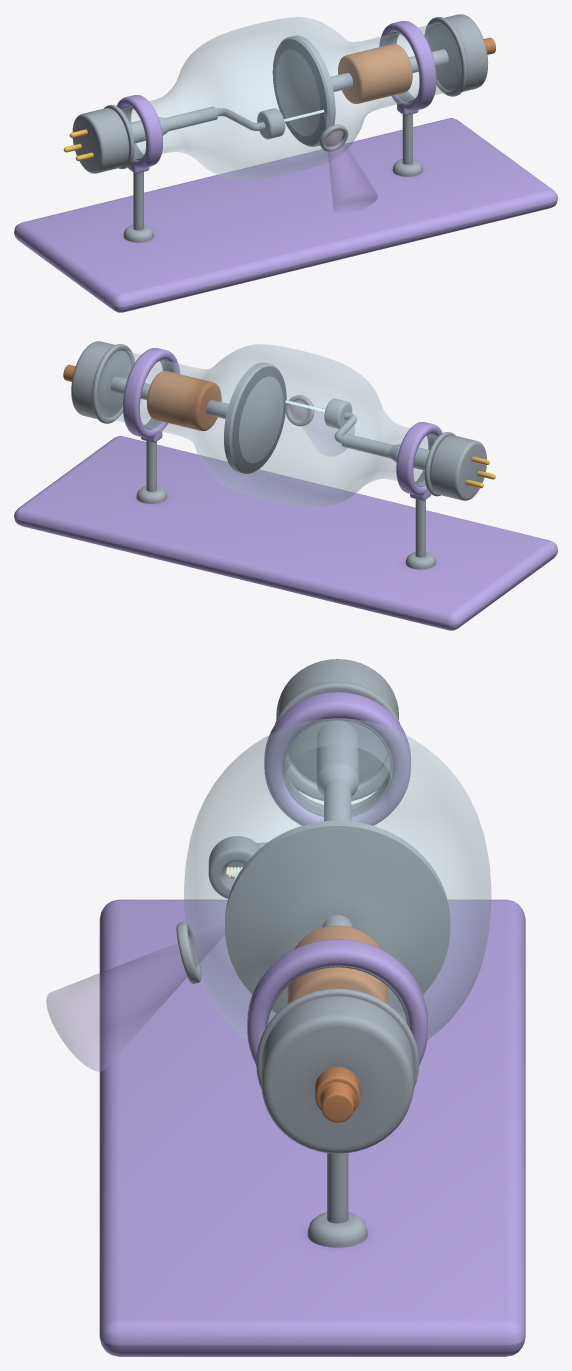
3 views of the same model, one above another, from view 1: azimuth 30°, elevation 25°; view 2: azimuth 150°, elevation 25°; view 3: azimuth 270°, elevation 25° (orthographic). The views are drawn at different scales.
Parts seen in each view (by area): view 1: x-ray-tube_body, x-ray-tube_envelope_glass, x-ray-tube_rotor, x-ray-tube_xray_beam_glass; view 2: x-ray-tube_body, x-ray-tube_envelope_glass, x-ray-tube_rotor, x-ray-tube_xray_beam_glass; view 3: x-ray-tube_body, x-ray-tube_envelope_glass, x-ray-tube_rotor, x-ray-tube_xray_beam_glass.
Boxes of the visible parts, box(x1,y1,x2,y2) form: x-ray-tube_body: box(14, 14, 557, 312); x-ray-tube_envelope_glass: box(121, 17, 461, 179); x-ray-tube_rotor: box(272, 35, 412, 146); x-ray-tube_xray_beam_glass: box(324, 112, 377, 213); x-ray-tube_body: box(14, 341, 557, 630); x-ray-tube_envelope_glass: box(98, 344, 438, 507); x-ray-tube_rotor: box(147, 362, 286, 473); x-ray-tube_xray_beam_glass: box(287, 403, 354, 455); x-ray-tube_body: box(99, 659, 525, 1356); x-ray-tube_envelope_glass: box(184, 718, 491, 1040); x-ray-tube_rotor: box(225, 820, 450, 1013); x-ray-tube_xray_beam_glass: box(46, 924, 224, 1071).
Size of the model in its own units: 0.41 by 0.1694 by 0.1912.
6 materials, 2 textured.
